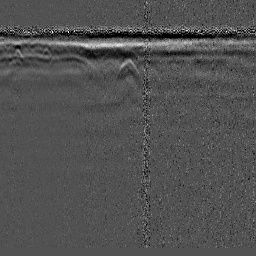cavity: (116, 57, 139, 77)
